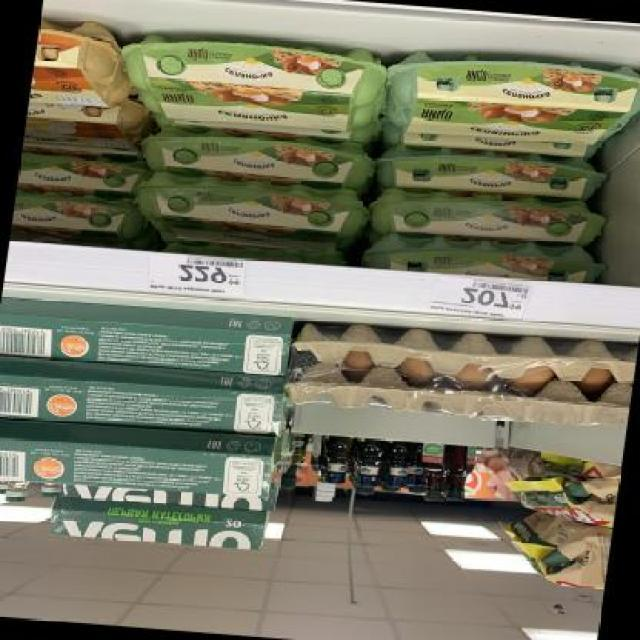egg: (113, 31, 390, 138), (376, 44, 640, 151), (127, 170, 376, 253), (133, 123, 384, 192), (364, 182, 610, 250), (371, 140, 614, 208), (360, 229, 612, 282), (29, 18, 136, 110), (10, 189, 152, 248), (23, 92, 154, 153), (17, 148, 146, 197), (300, 434, 357, 514), (412, 439, 453, 504), (377, 434, 417, 496), (350, 435, 387, 500), (442, 445, 480, 507)
